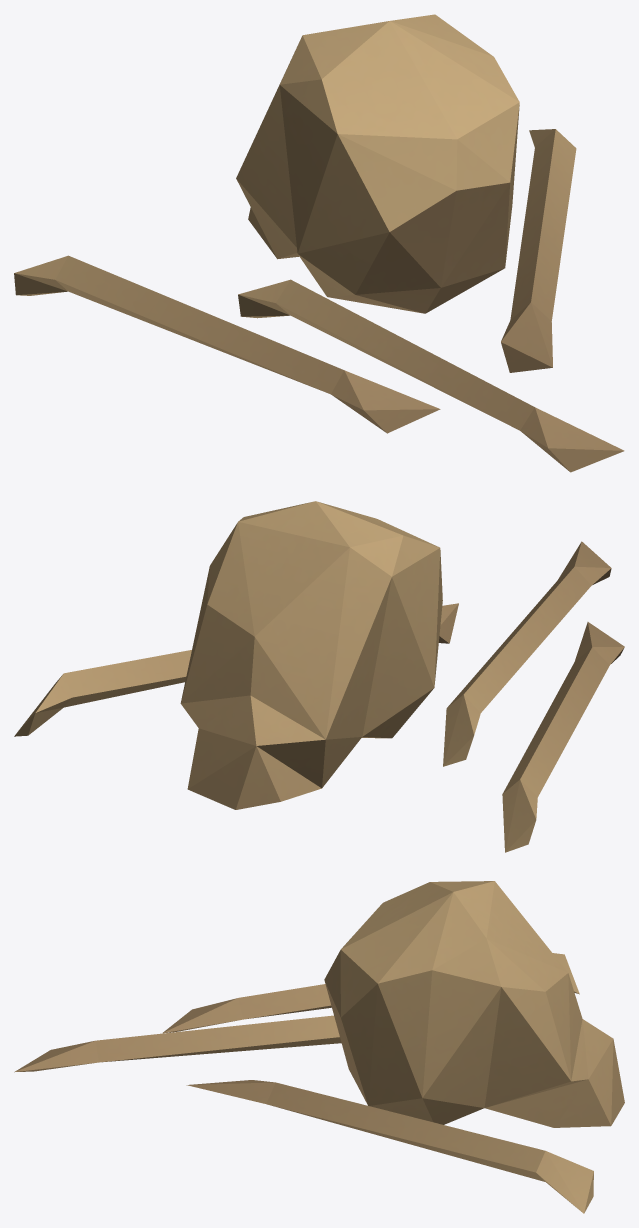
Rendered from Skull_3C_LOD.fbx.
3 renders of one model, top to bottom at view 1: azimuth 30°, elevation 25°; view 2: azimuth 150°, elevation 25°; view 3: azimuth 270°, elevation 25°, orthographic. The views are drawn at different scales.
Visible parts, largest first — view 1: polySurface1424; view 2: polySurface1424; view 3: polySurface1424.
Part boxes in pixels (x1,y1,x2,y2): polySurface1424: (14,14,624,472); polySurface1424: (14,501,624,852); polySurface1424: (14,881,624,1213).
Bounding box in the file's own units: 1.38 × 0.6328 × 1.56.
